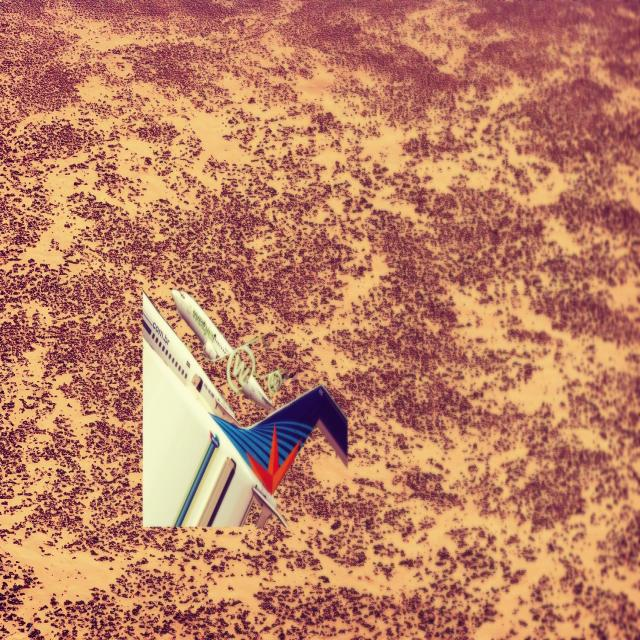airplane: (140, 288, 348, 530)
